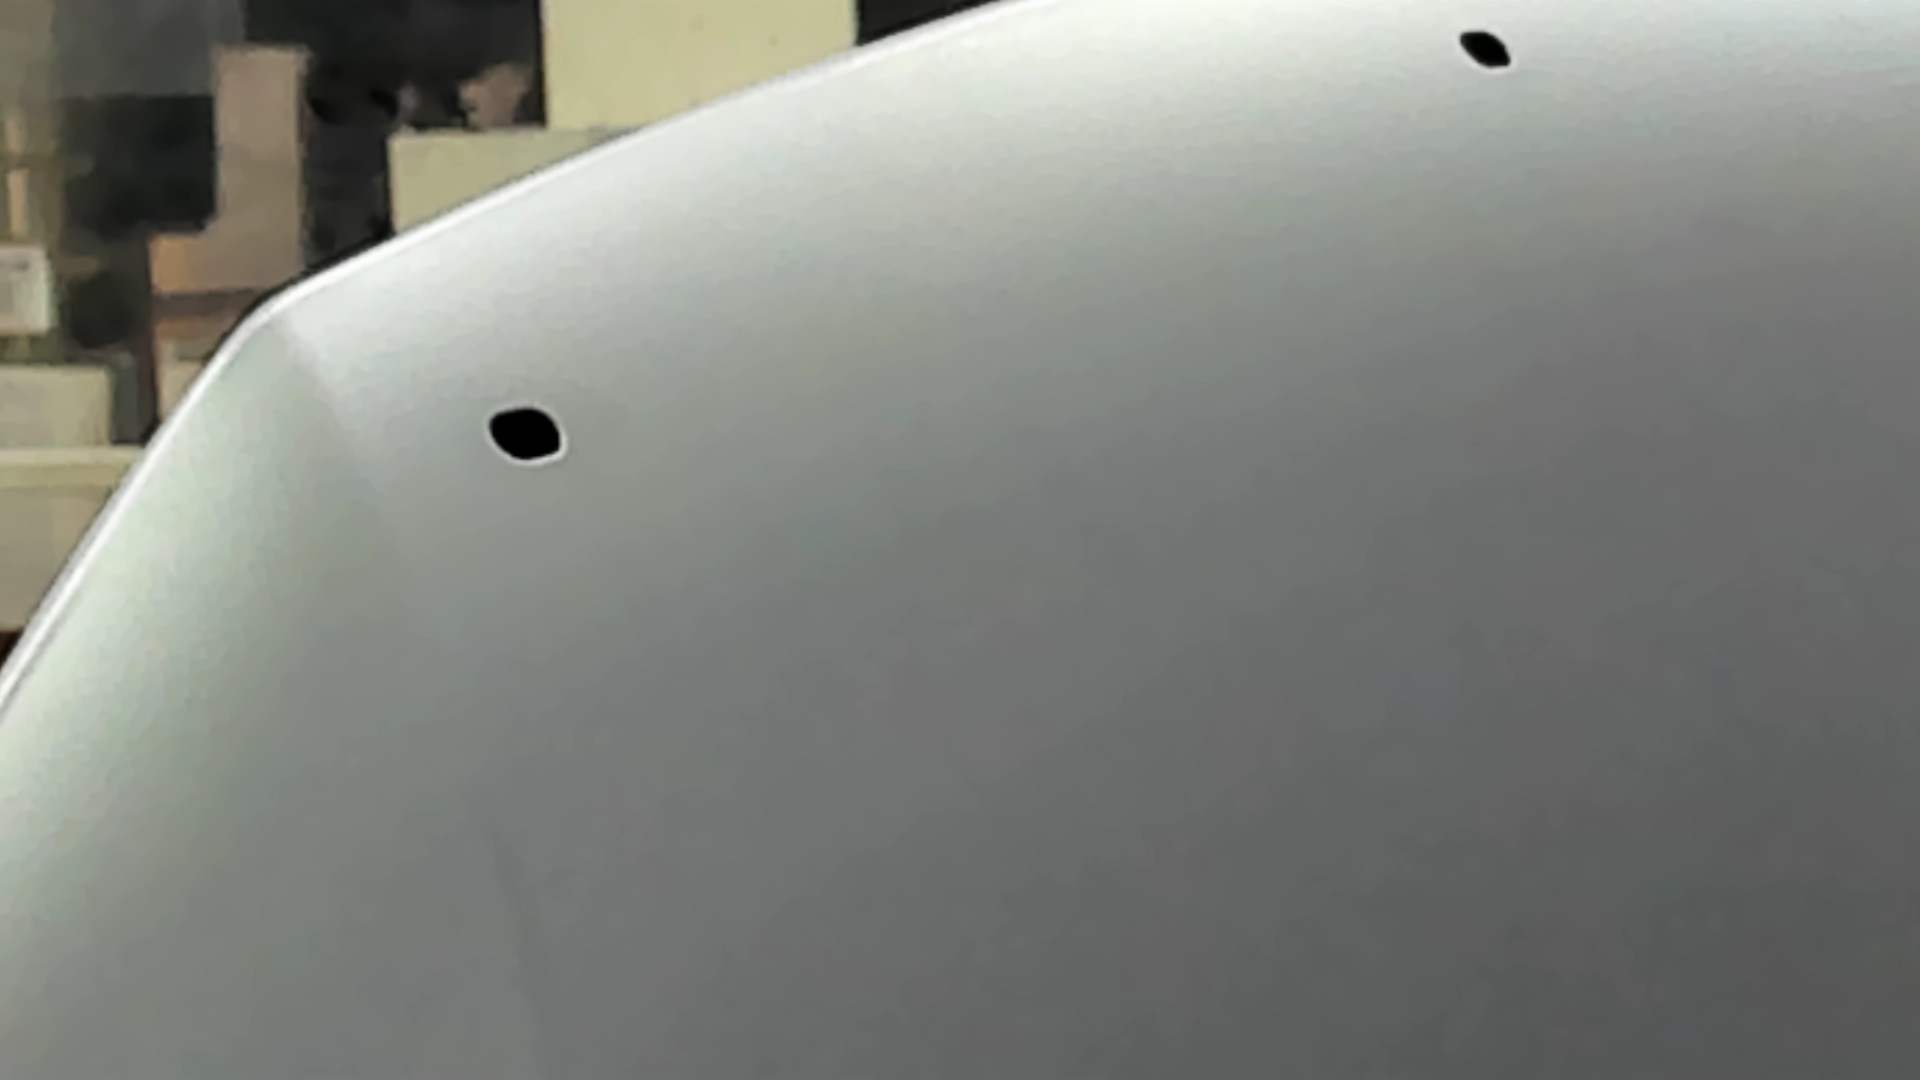amorfo: (483, 401, 568, 464), (1451, 24, 1518, 73)
